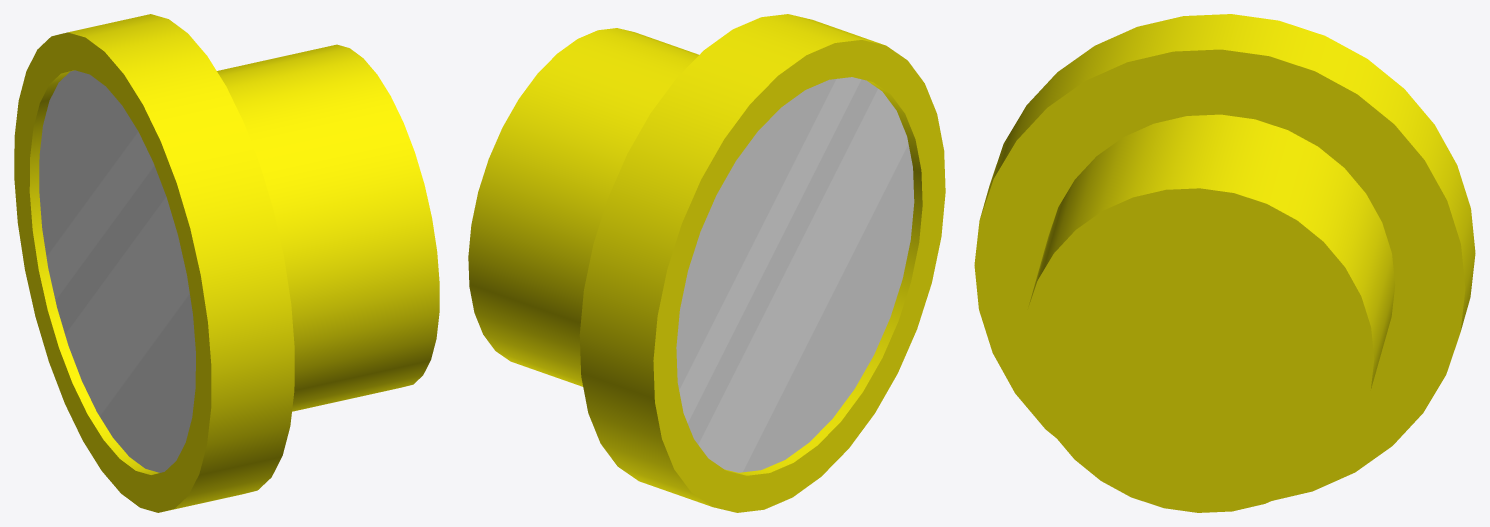
The model's file is lampica.fbx.
3 renders of one model, left to right at view 1: azimuth 30°, elevation 25°; view 2: azimuth 150°, elevation 25°; view 3: azimuth 270°, elevation 25°, orthographic.
Parts seen in each view (by area): view 1: Cylinder; view 2: Cylinder; view 3: Cylinder.
Boxes of the visible parts, x1,y1,x2,y2 form: Cylinder: (14,14,439,512); Cylinder: (468,14,945,512); Cylinder: (974,14,1475,512).
Bounding box in the file's own units: 9.09 × 13.74 × 13.85.
2 materials, 1 textured.
